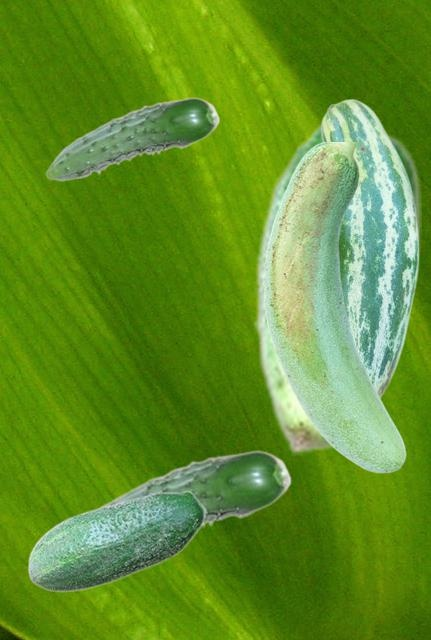cucumber: (254, 117, 420, 454), (263, 142, 405, 472), (320, 98, 418, 398), (27, 490, 206, 591), (95, 450, 291, 530), (45, 97, 219, 180)
